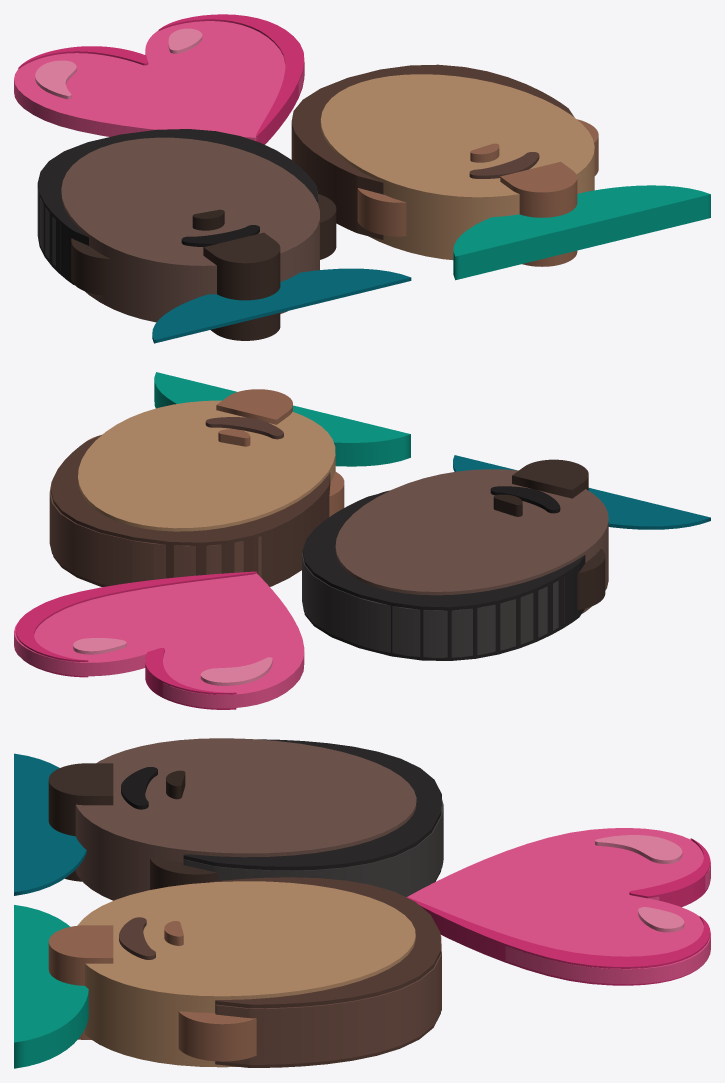
The model's file is emoji_u1f468_1f3ff_200d_2764_200d_1f468_1f3fd.glb.
3 renders of one model, top to bottom at view 1: azimuth 30°, elevation 25°; view 2: azimuth 150°, elevation 25°; view 3: azimuth 270°, elevation 25°, orthographic. The views are drawn at different scales.
Parts seen in each view (by area): view 1: emoji_u1f468_1f3ff_200d_2764_200d_1f468_1f3fd; view 2: emoji_u1f468_1f3ff_200d_2764_200d_1f468_1f3fd; view 3: emoji_u1f468_1f3ff_200d_2764_200d_1f468_1f3fd.
Boxes of the visible parts, x1,y1,x2,y2 form: emoji_u1f468_1f3ff_200d_2764_200d_1f468_1f3fd: [14, 14, 710, 343]; emoji_u1f468_1f3ff_200d_2764_200d_1f468_1f3fd: [14, 372, 710, 709]; emoji_u1f468_1f3ff_200d_2764_200d_1f468_1f3fd: [14, 738, 710, 1068].
Bounding box in the file's own units: 0.0345 × 0.005 × 0.0338.
